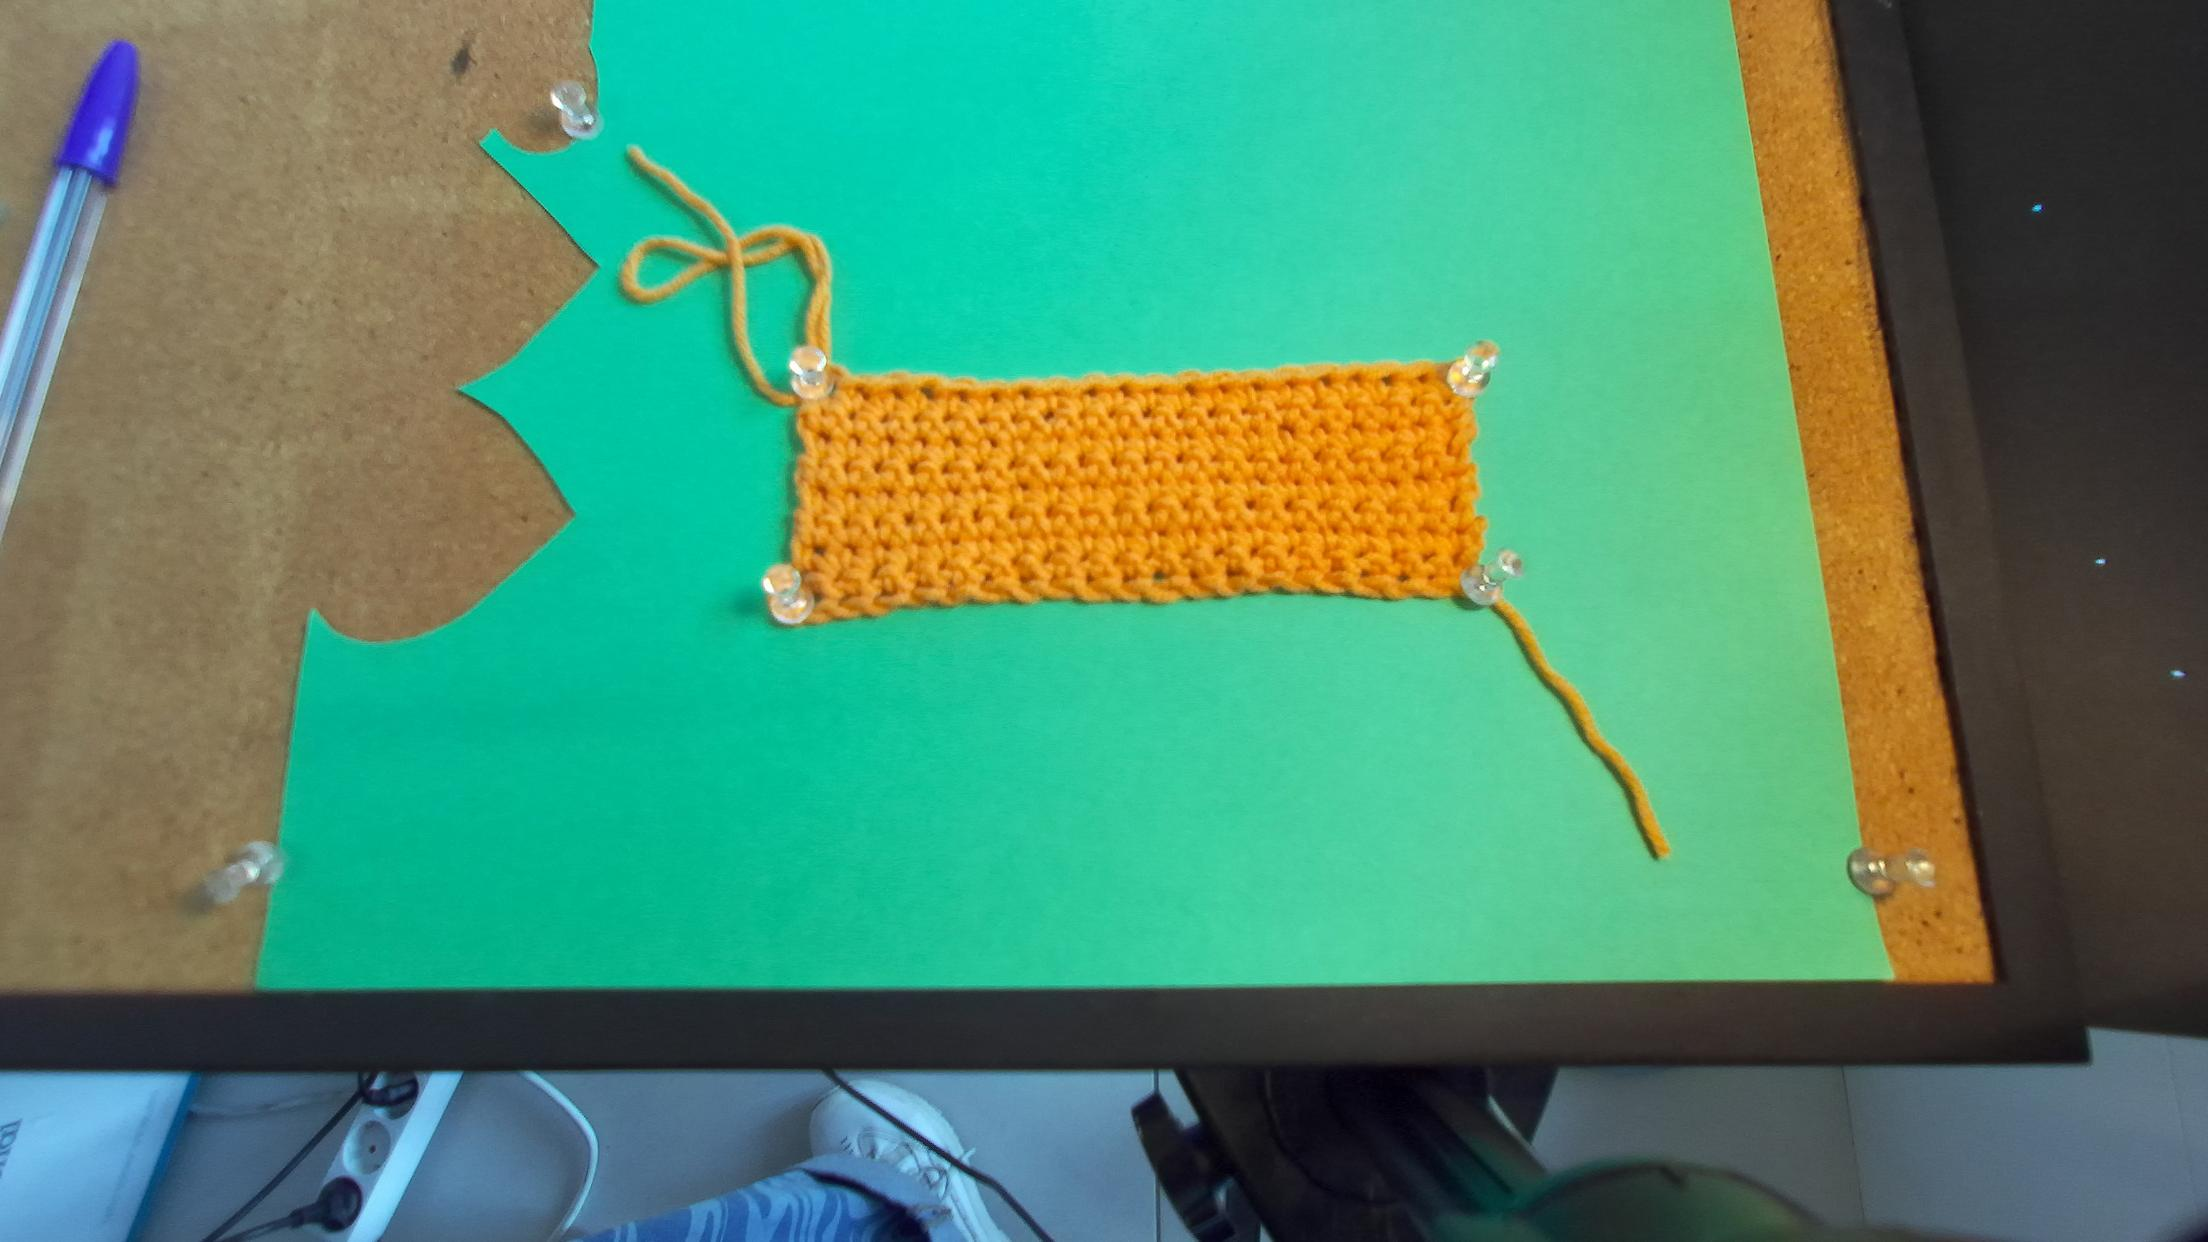hole: (919, 385, 936, 400), (1378, 372, 1395, 387), (857, 387, 872, 400), (1184, 381, 1198, 396), (890, 387, 904, 400), (1119, 384, 1133, 397), (1318, 375, 1333, 387), (989, 390, 1001, 403), (1218, 381, 1231, 393), (957, 388, 968, 403), (1350, 372, 1362, 384), (1021, 388, 1031, 402), (1086, 387, 1098, 397), (1416, 373, 1429, 384), (1250, 382, 1263, 391), (1055, 388, 1068, 397), (1286, 379, 1298, 388), (1153, 385, 1163, 393)
swatch: (761, 347, 1495, 629)
